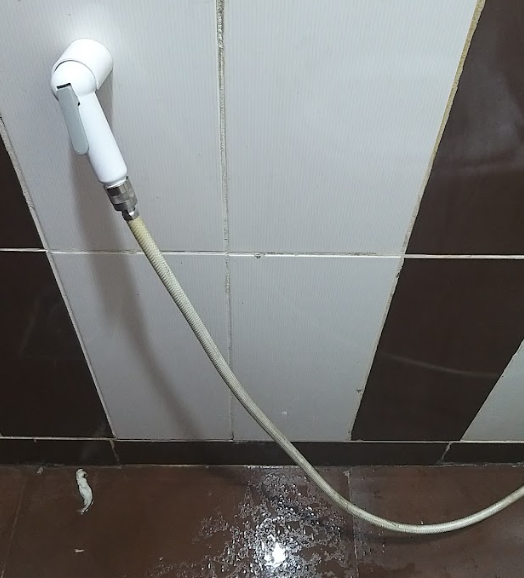Toilet: (27, 33, 521, 544)
